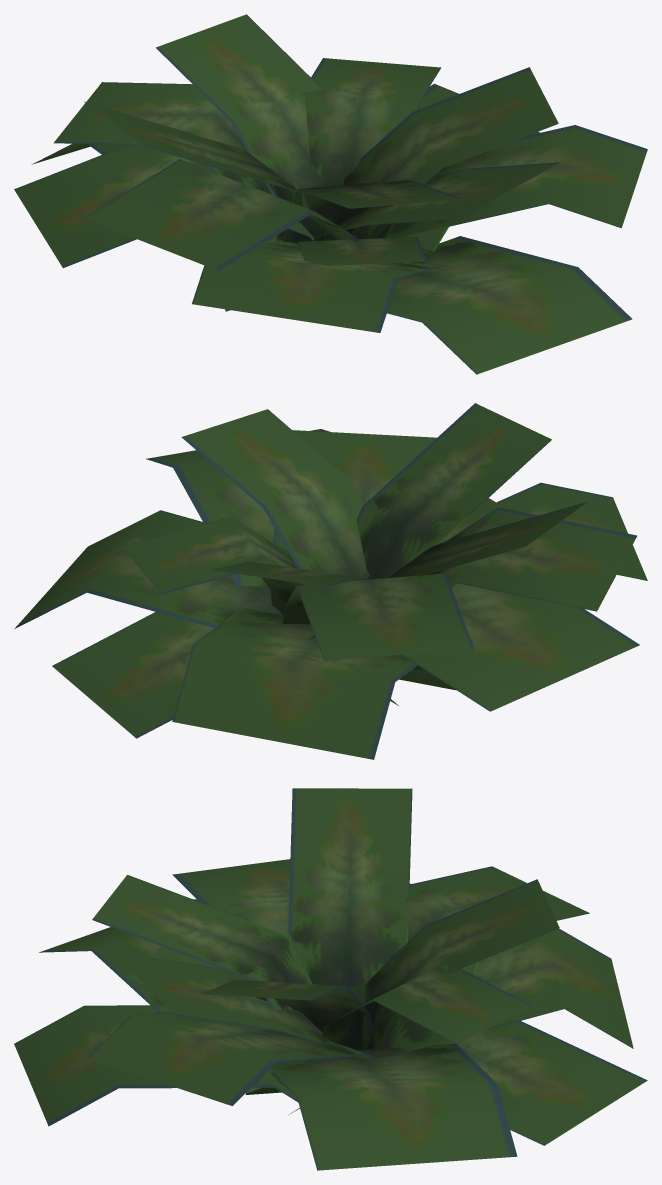
The model's file is ZC_guanmu01.FBX.
3 renders of one model, top to bottom at view 1: azimuth 30°, elevation 25°; view 2: azimuth 150°, elevation 25°; view 3: azimuth 270°, elevation 25°, orthographic. The views are drawn at different scales.
Parts seen in each view (by area): view 1: ZC_guanmu01_001; view 2: ZC_guanmu01_001; view 3: ZC_guanmu01_001.
Part boxes in pixels (x1,y1,x2,y2): ZC_guanmu01_001: [14, 14, 647, 374]; ZC_guanmu01_001: [14, 403, 647, 759]; ZC_guanmu01_001: [14, 788, 647, 1170].
Bounding box in the file's own units: 225 × 84.23 × 229.
1 material, 1 textured.
